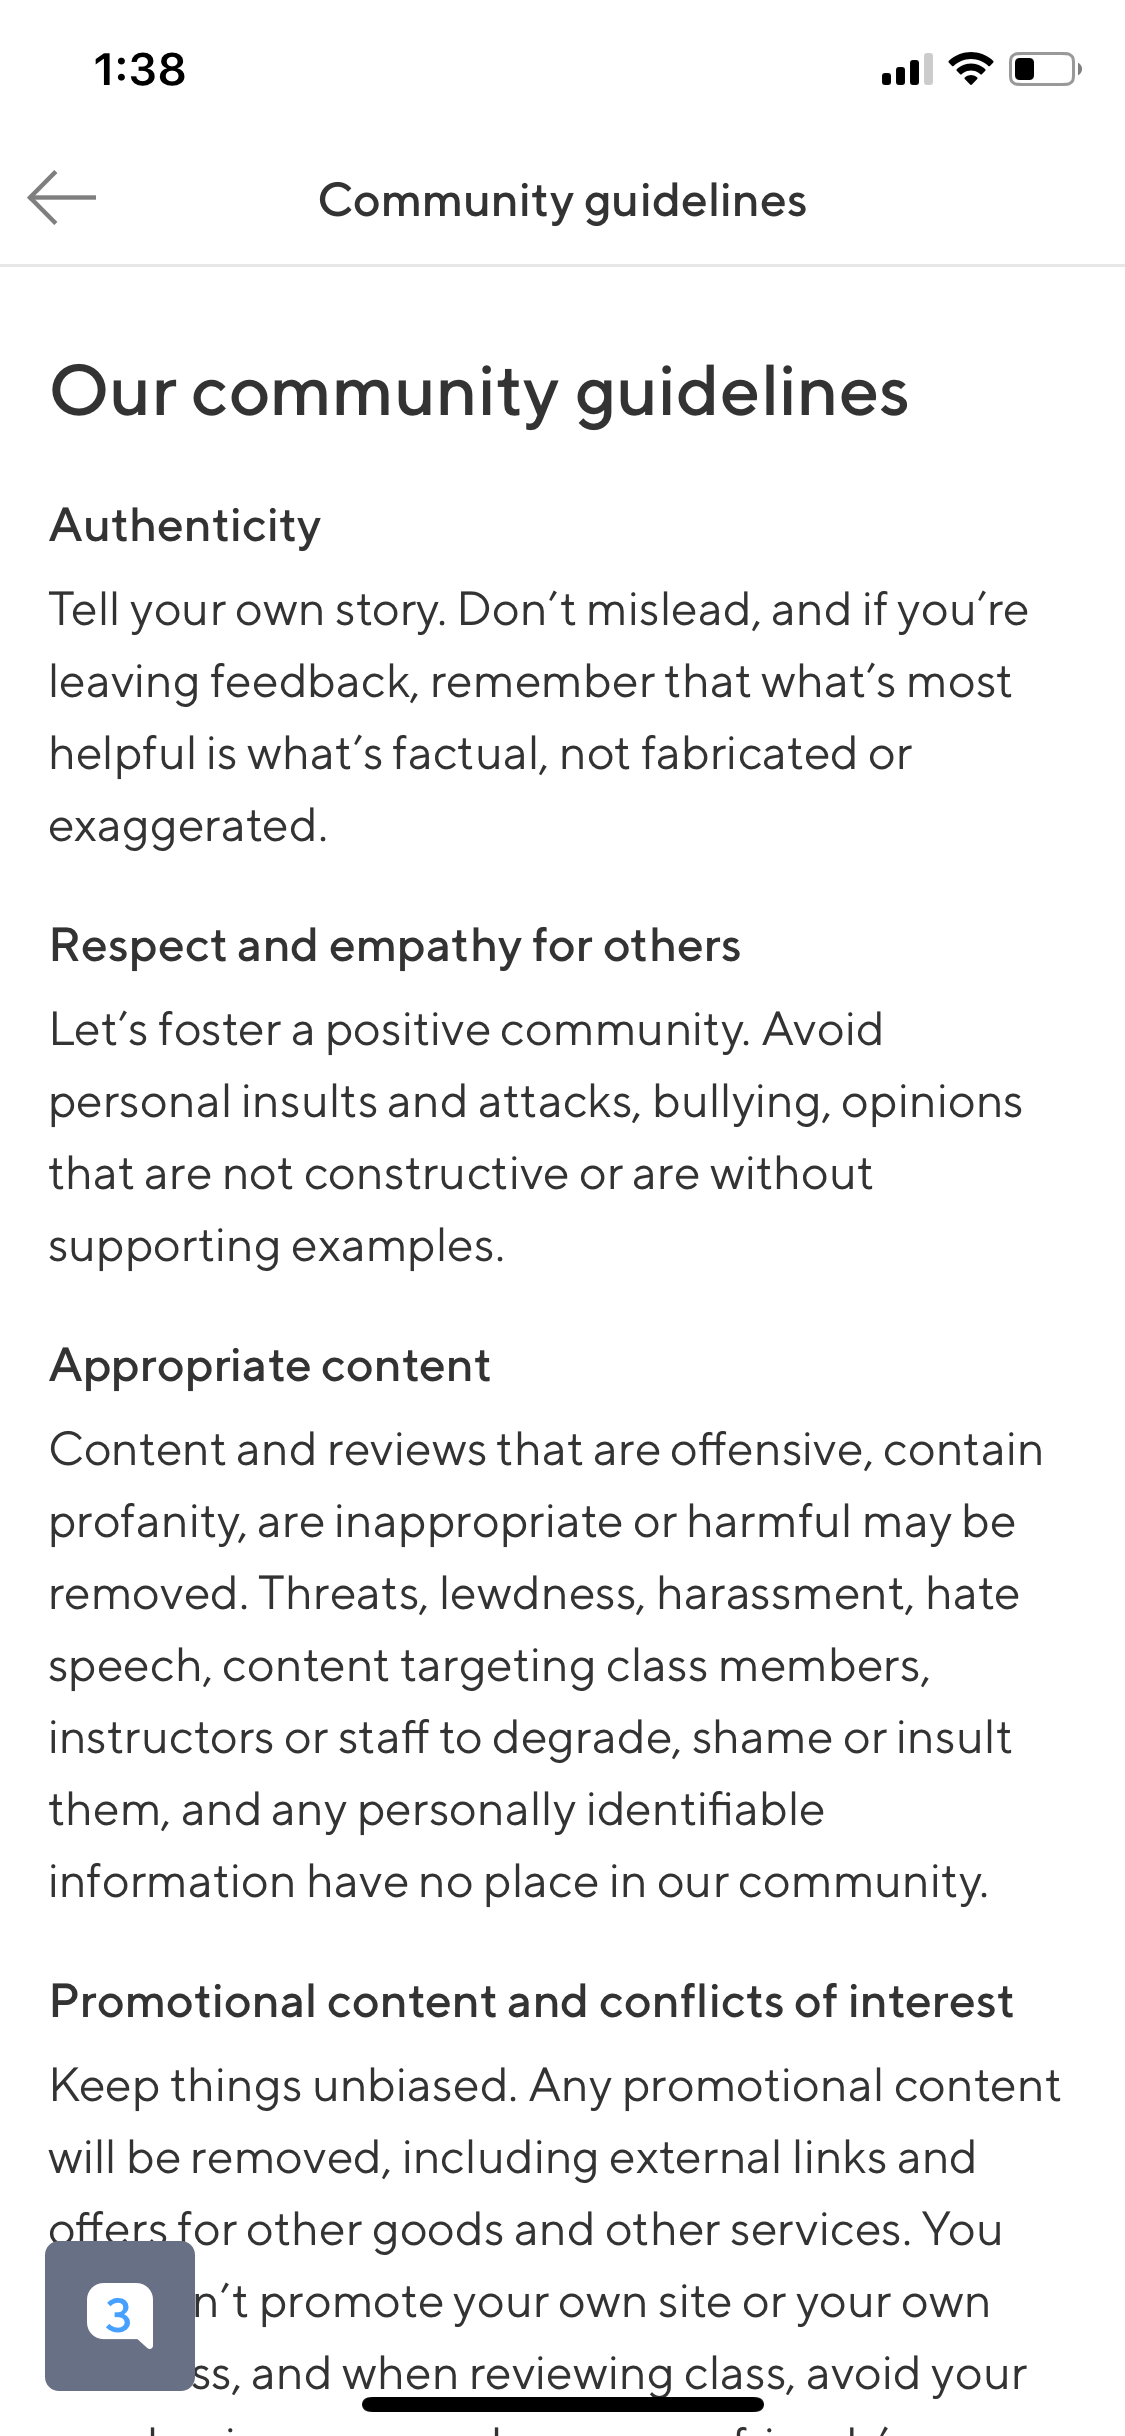Buttons: (2, 109, 152, 259)
FAB (Floating Action Button): (23, 2208, 207, 2406)
